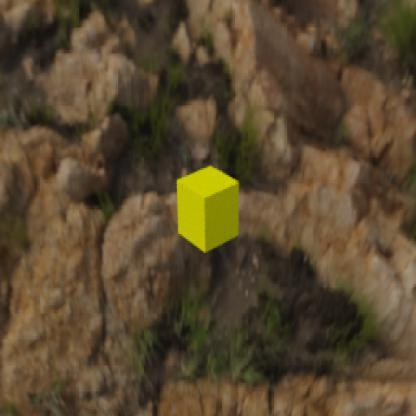cube: (176, 164, 240, 254)
